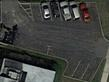parkingspot: (29, 1, 101, 24), (62, 56, 103, 82)
